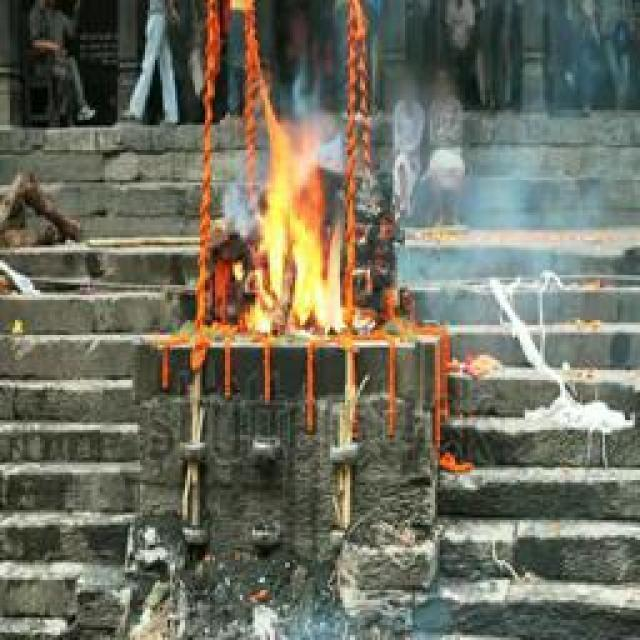Fire: (247, 98, 367, 342)
